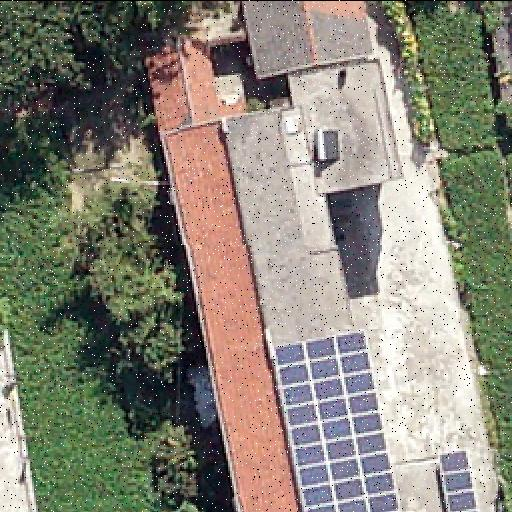solar-panel: (270, 329, 402, 511), (435, 448, 477, 512)
